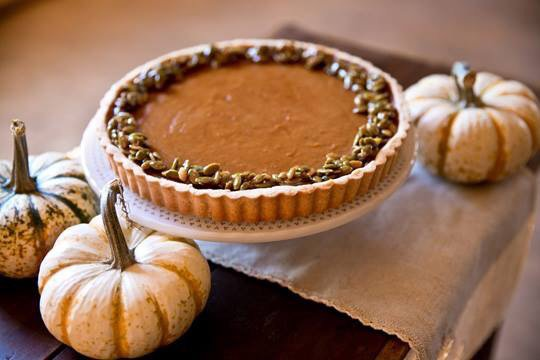curry: (12, 2, 540, 357)
salad: (403, 61, 540, 185)
sushi: (96, 37, 409, 236)
